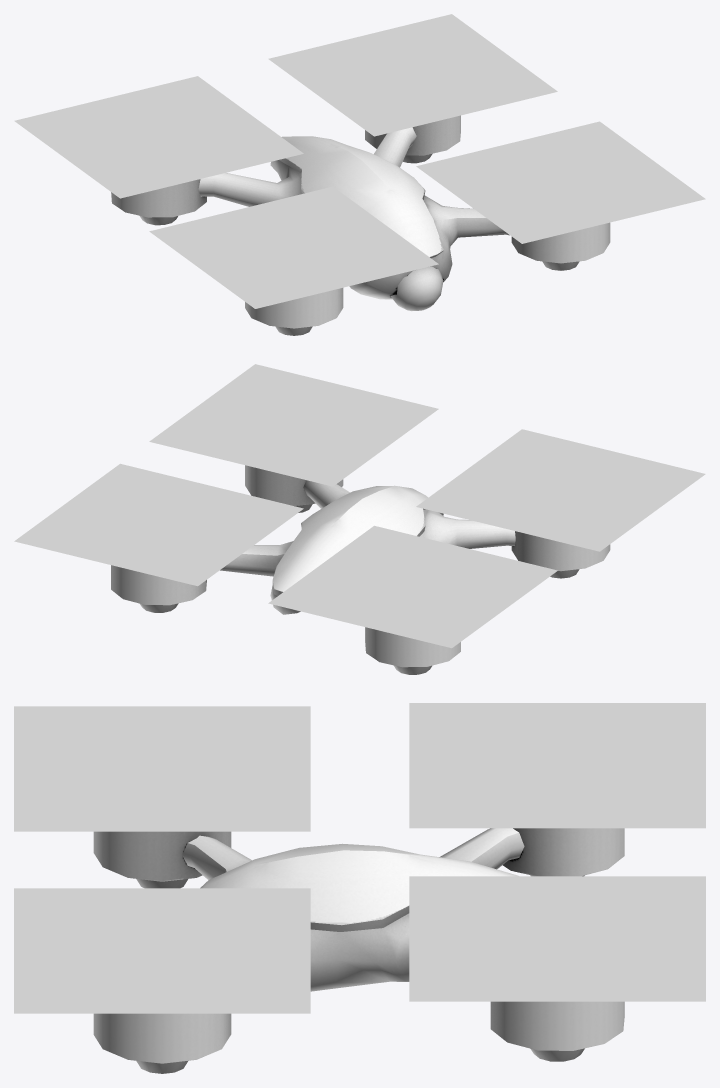
Rendered from Drone.fbx.
3 views of the same model, one above another, from view 1: azimuth 30°, elevation 25°; view 2: azimuth 150°, elevation 25°; view 3: azimuth 270°, elevation 25° (orthographic). The views are drawn at different scales.
Parts seen in each view (by area): view 1: rotors, body, engines; view 2: rotors, body, engines; view 3: rotors, body, engines.
Part boxes in pixels (box(x1,y1,x2,y2)): rotors: box(14, 14, 705, 308); body: box(198, 127, 610, 311); engines: box(111, 115, 460, 335); rotors: box(14, 364, 705, 648); body: box(220, 465, 515, 614); engines: box(111, 531, 610, 674); rotors: box(14, 703, 705, 1013); body: box(93, 828, 524, 1073); engines: box(93, 828, 624, 1061).
Bounding box in the file's own units: 2.87 × 0.6733 × 2.73.
1 material, 1 textured.
